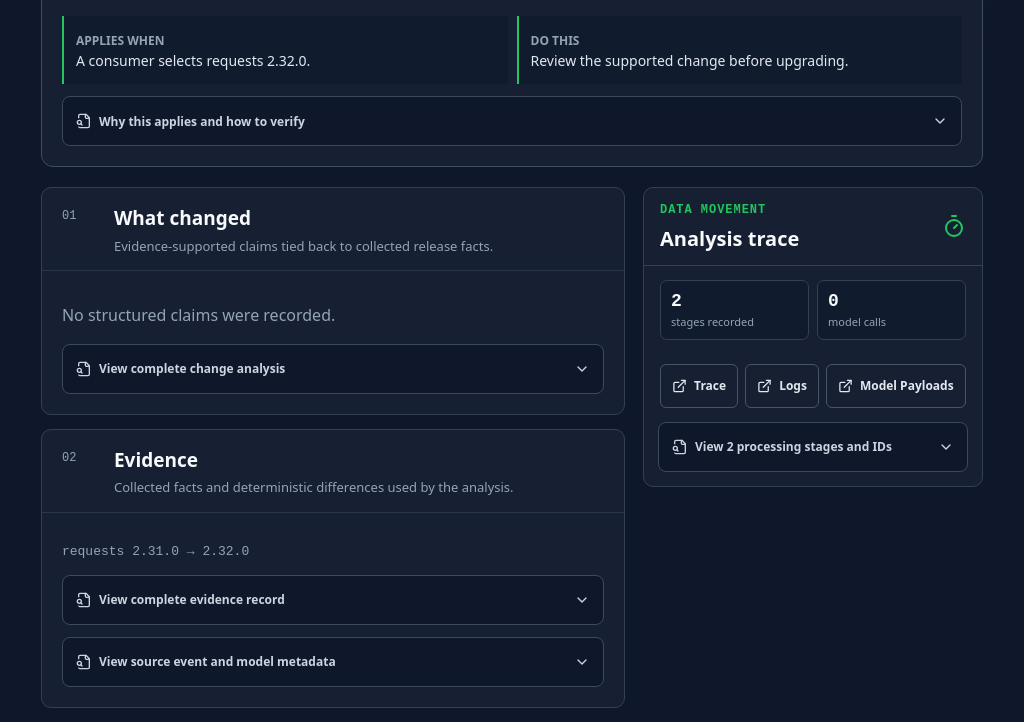
finding detail › does not expose the numbered result container for a refused analysis
(page scrolled)
Expected: the text "No structured claims were recorded." is shown, [62,304,335,326]
Click the button "View complete change analysis".
click(192, 369)  # box [63,345,603,393]
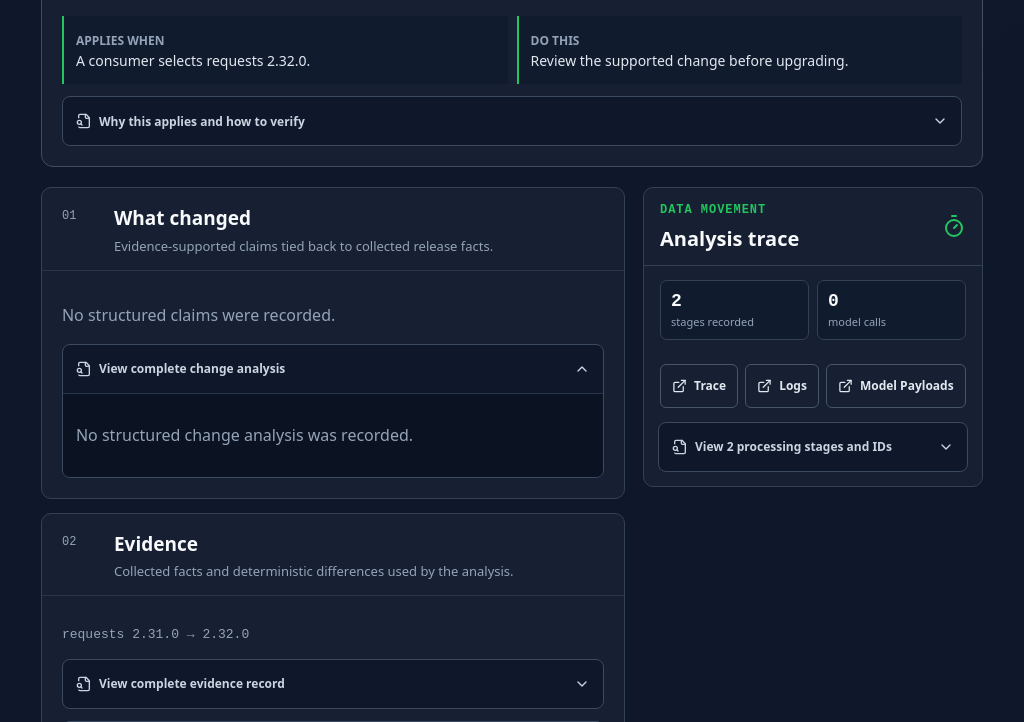
Expected: the element named "View complete change analysis" reads "No structured change analysis was recorded.", [76,424,413,446]
